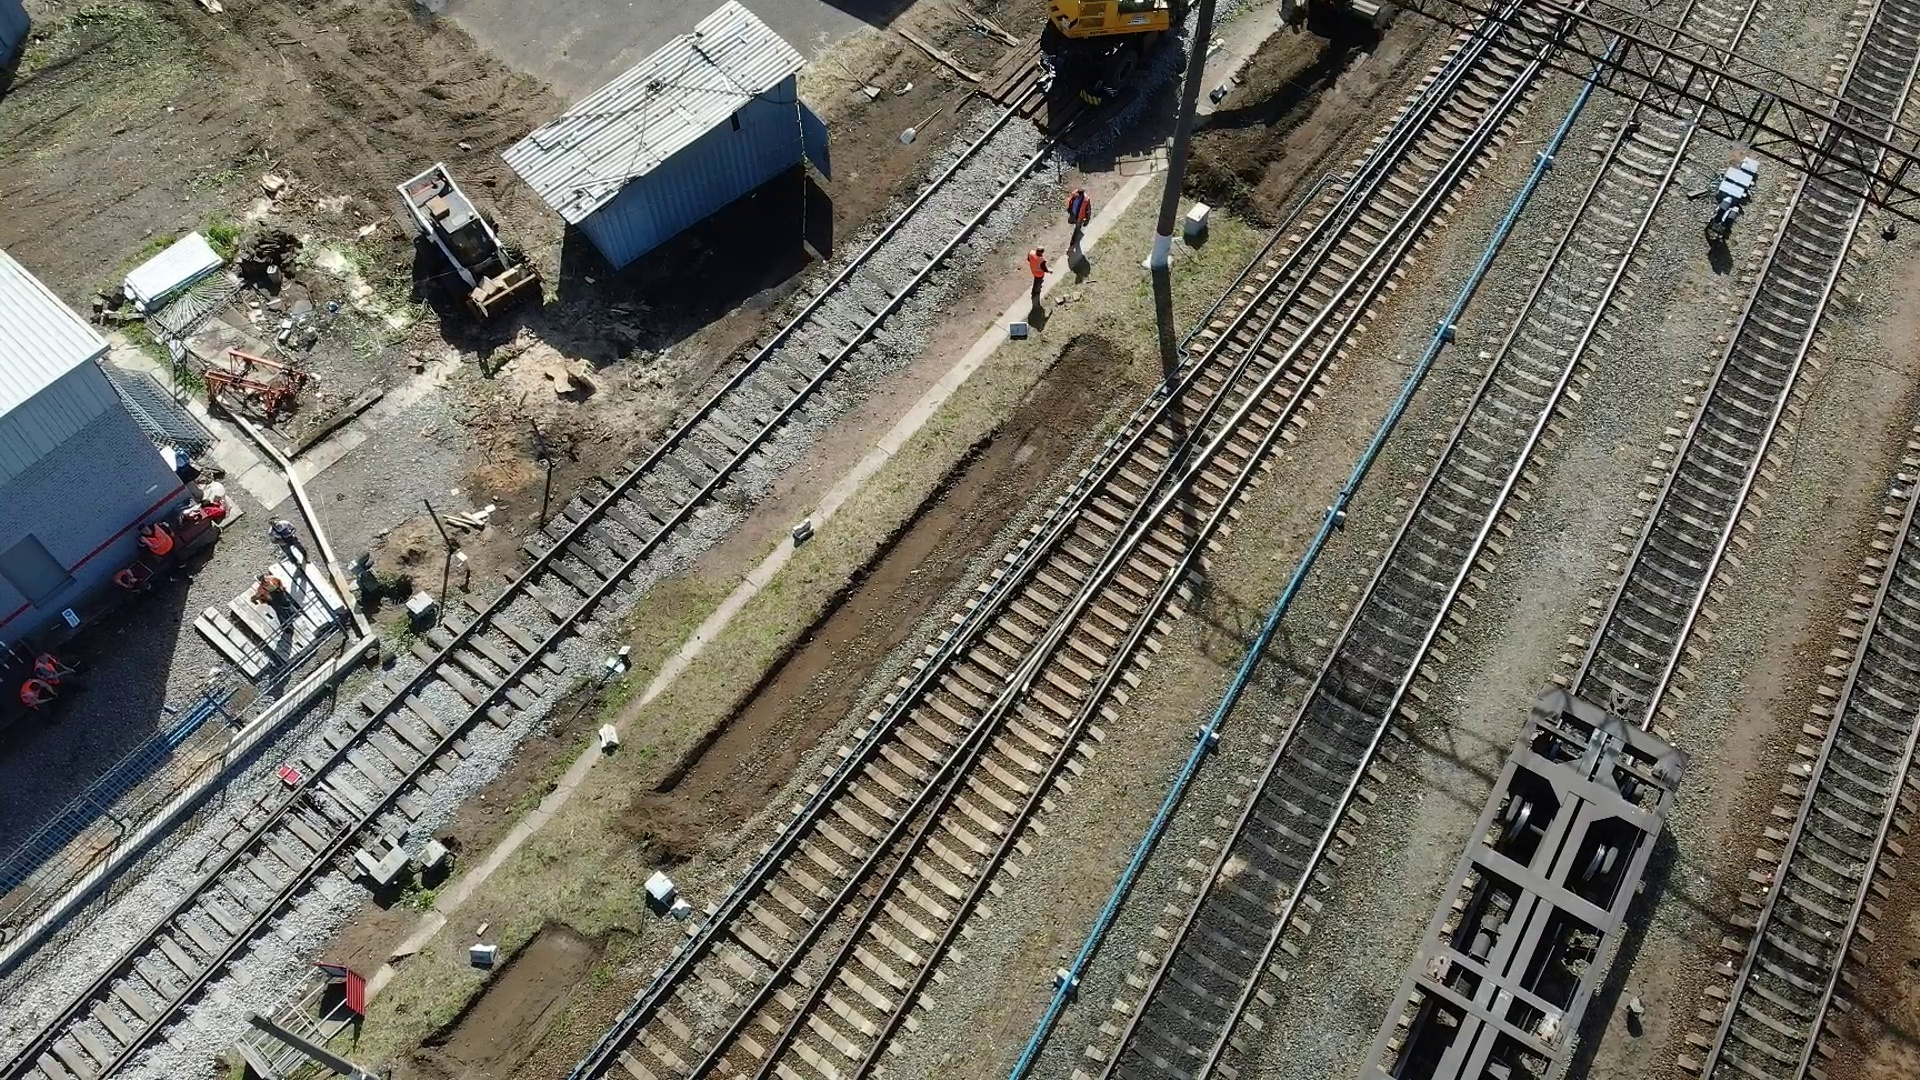kjtv: (1040, 1, 1215, 117)
